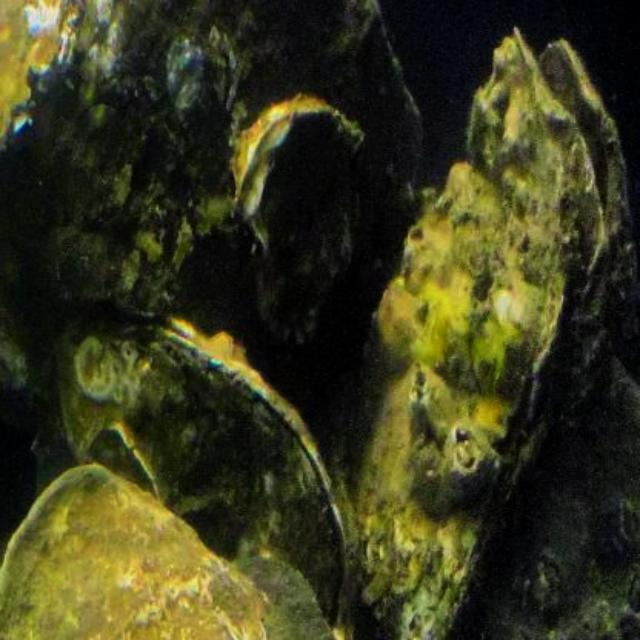Oyster-Closed: (355, 32, 607, 640), (69, 303, 359, 640), (0, 462, 330, 640), (481, 357, 640, 640), (540, 34, 640, 390), (234, 96, 359, 345)
